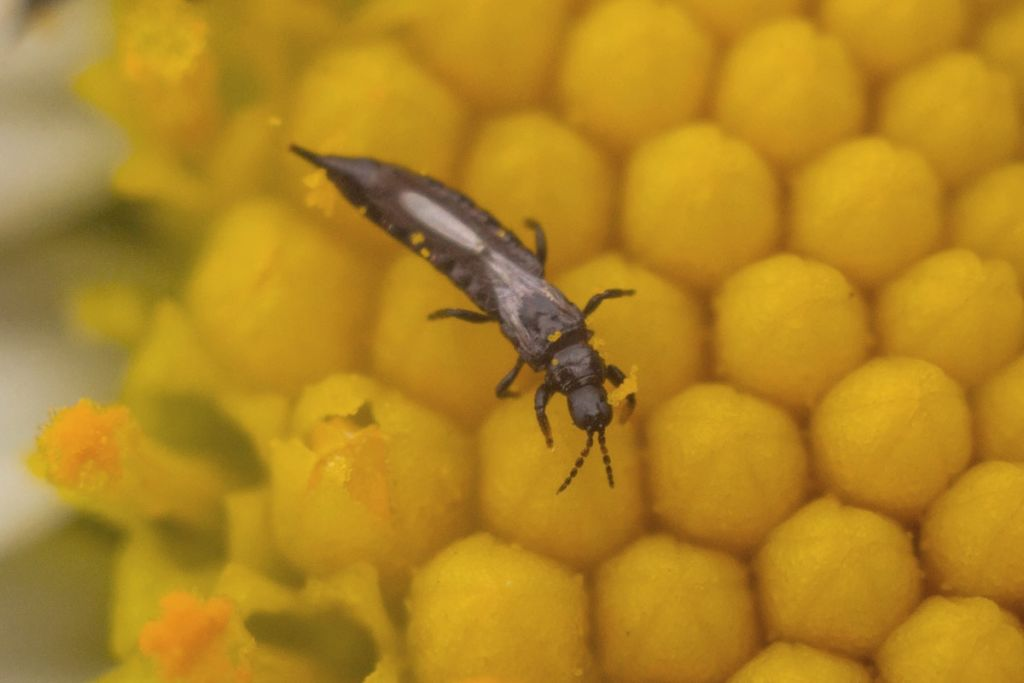Phlaeothripidae: (288, 140, 648, 499)
